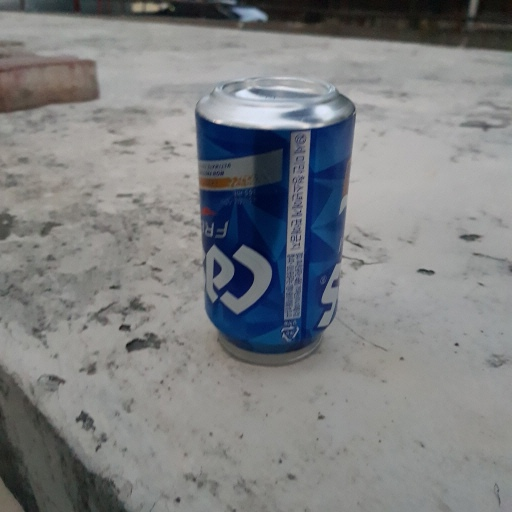Metal_0: (191, 74, 357, 366)
